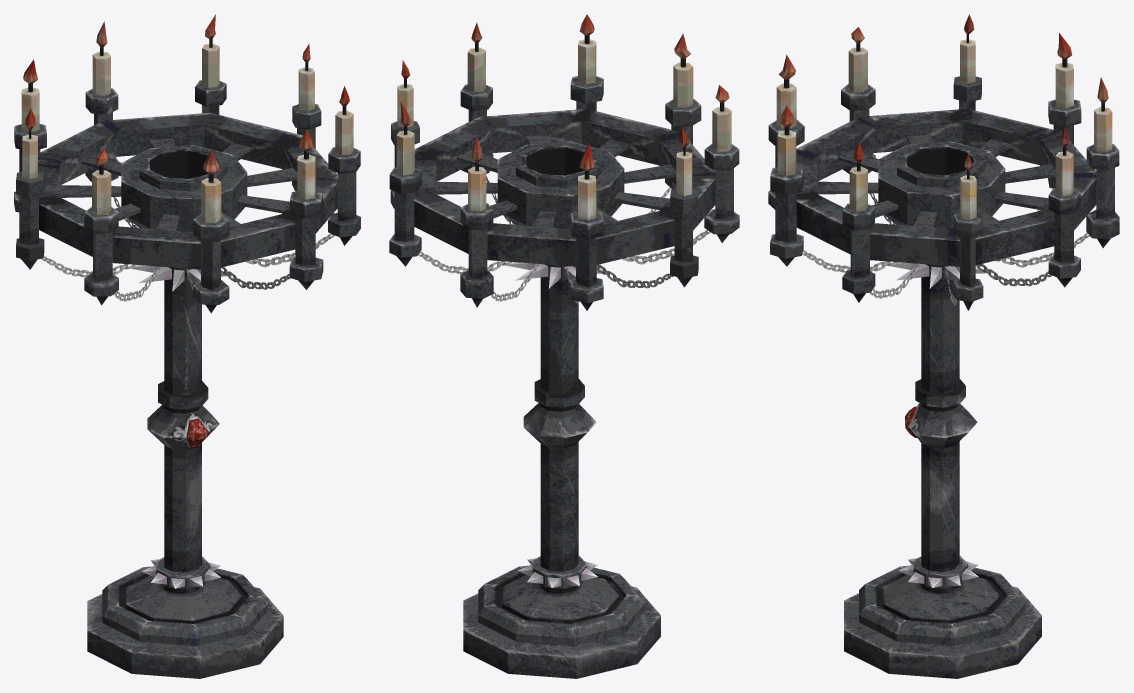
Rendered from kerzendings.fbx.
The picture shows the model from 3 angles, left to right: view 1: azimuth 30°, elevation 25°; view 2: azimuth 150°, elevation 25°; view 3: azimuth 270°, elevation 25°; orthographic projection.
Parts seen in each view (by area): view 1: Cylinder.001, Plane; view 2: Cylinder.001, Plane; view 3: Cylinder.001, Plane.
Boxes of the visible parts, x1,y1,x2,y2 form: Cylinder.001: (14, 14, 360, 678); Plane: (40, 197, 335, 301); Cylinder.001: (389, 14, 739, 678); Plane: (418, 176, 710, 304); Cylinder.001: (768, 14, 1119, 678); Plane: (802, 193, 1089, 305).
Size of the model in its own units: 88.51 by 155 by 88.08.
Materials: 2 (2 with a texture image).
